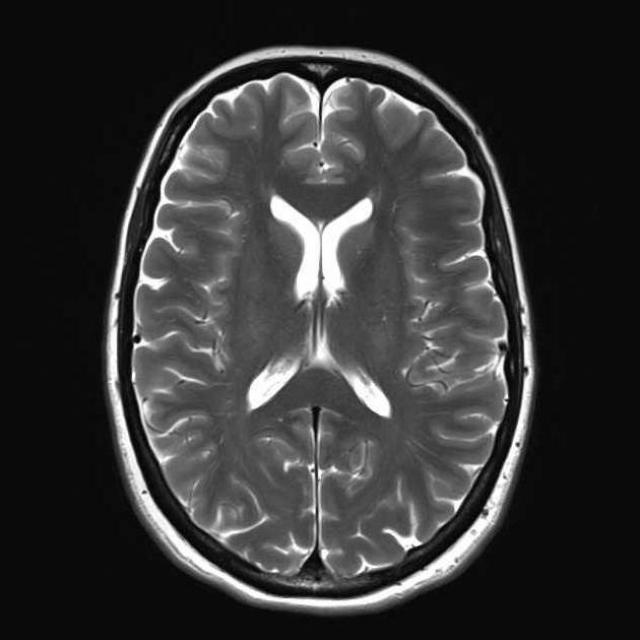no-tumor: (184, 147, 450, 476)
